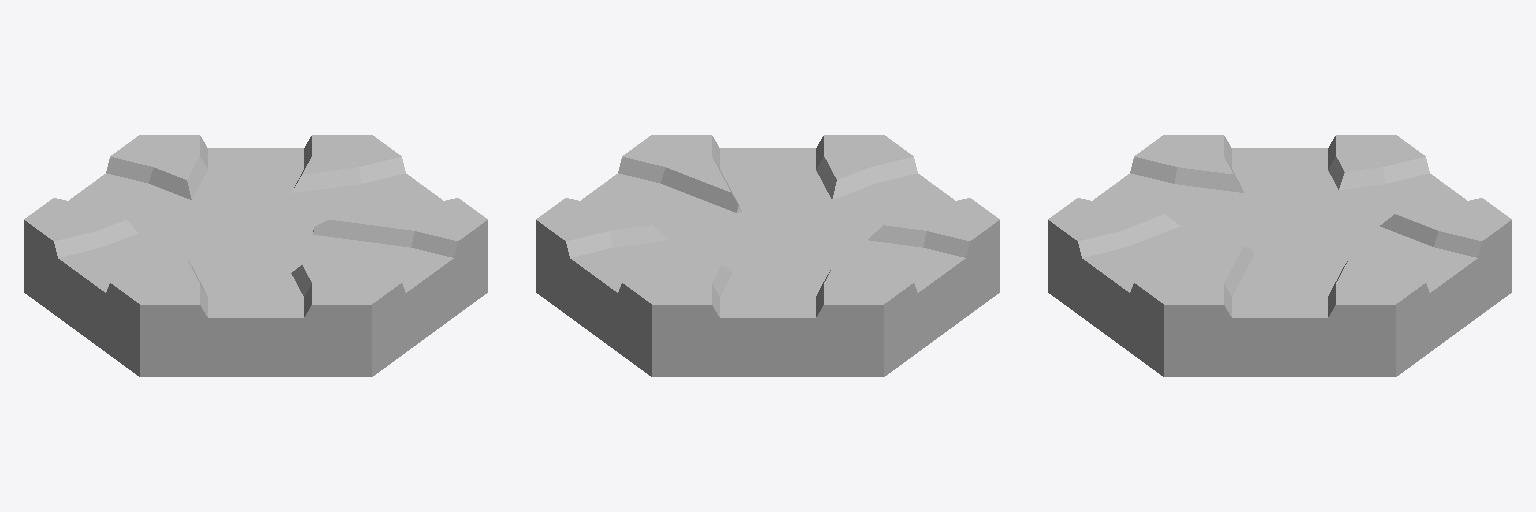
File: river_crossing.obj
The picture shows the model from 3 angles: view 1: azimuth 30°, elevation 25°; view 2: azimuth 150°, elevation 25°; view 3: azimuth 270°, elevation 25°; orthographic projection.
Parts seen in each view (by area): view 1: river_crossing; view 2: river_crossing; view 3: river_crossing.
Part boxes in pixels (bbox=[...]): river_crossing: bbox=[24, 135, 487, 376]; river_crossing: bbox=[536, 135, 999, 376]; river_crossing: bbox=[1048, 135, 1511, 376].
Bounding box in the file's own units: 1 × 0.2 × 1.15.